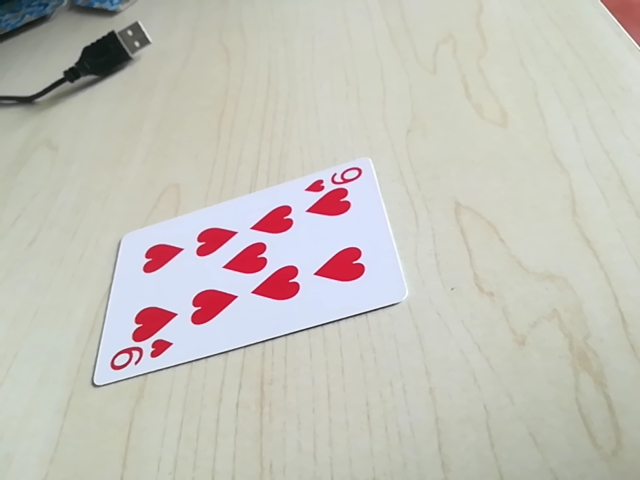hx 9: (107, 339, 170, 375), (305, 163, 371, 192)
